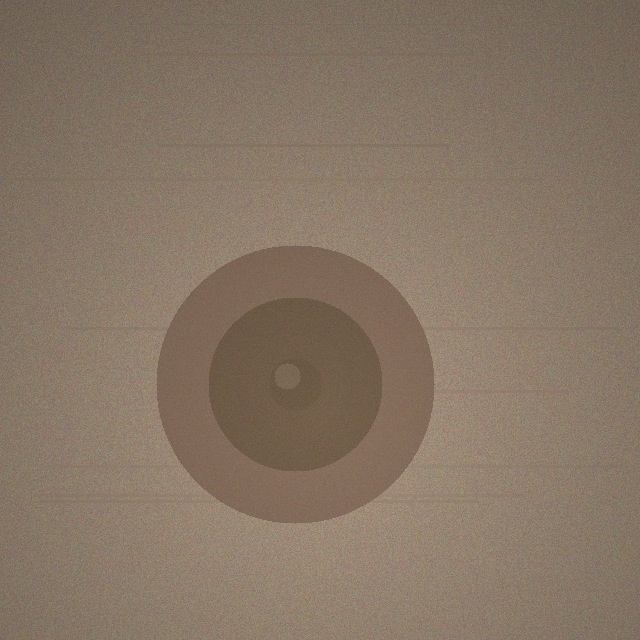good: (156, 245, 434, 523)
